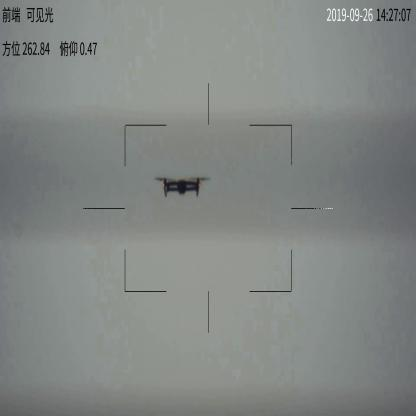uav: (152, 175, 209, 197)
